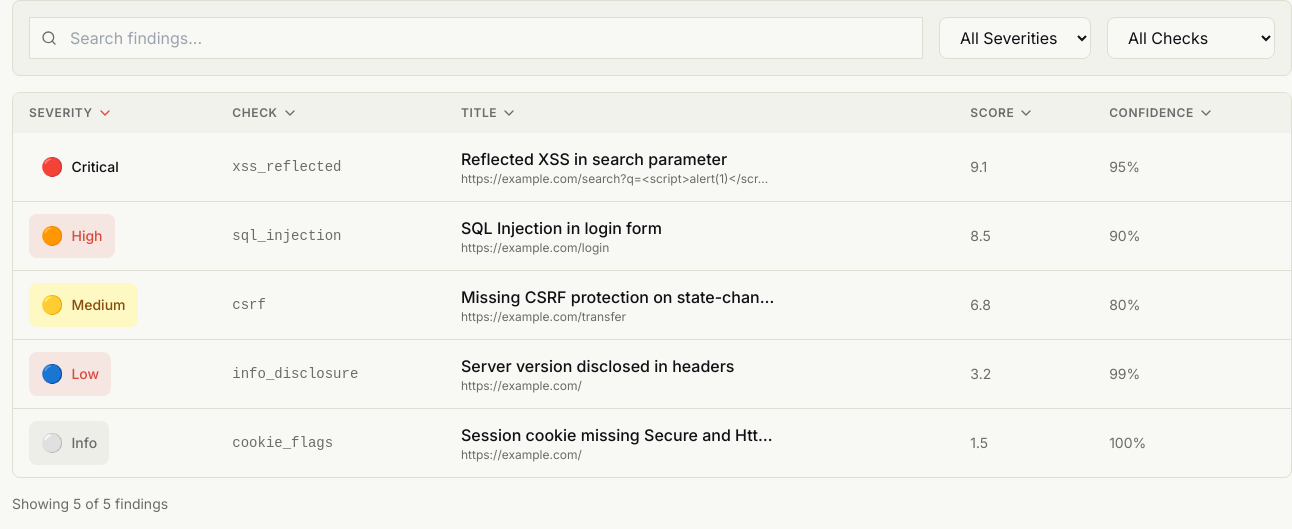
Test case: FindingsTable › shows clear filters button when filters are active
The width and height of the screenshot is (1292, 529).
Type "XSS" into the field with placeholder "Search findings..." at {"x": 476, "y": 38}, box top-left (29, 17), bottom-right (923, 59)
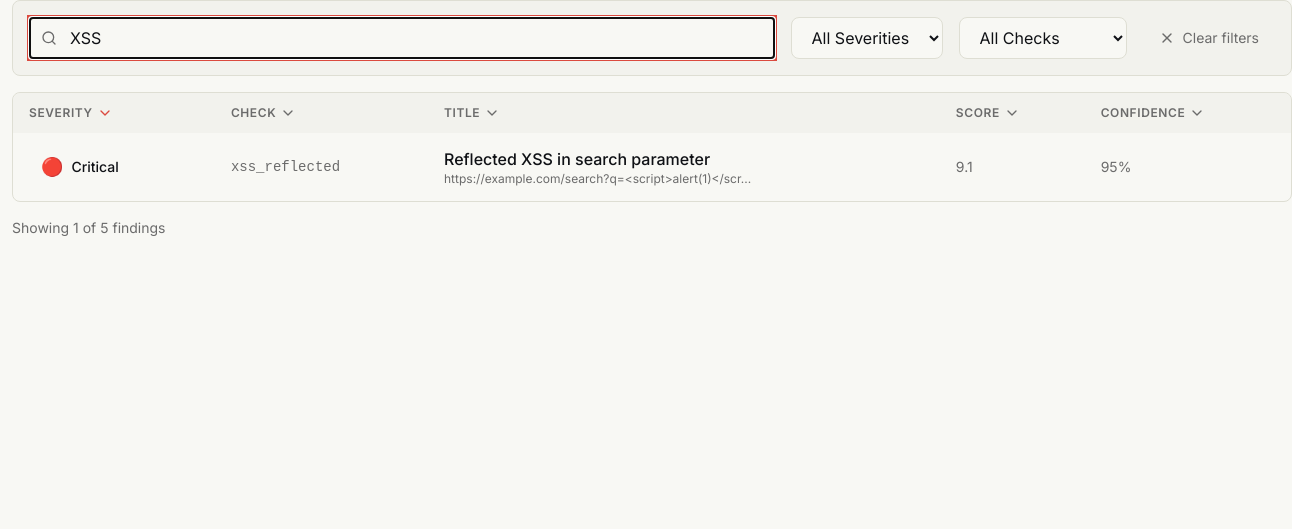
Result: the button "Clear filters" is shown at top-left (1143, 17), bottom-right (1275, 59)
